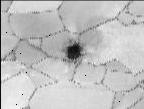good_void: (61, 39, 84, 62)
